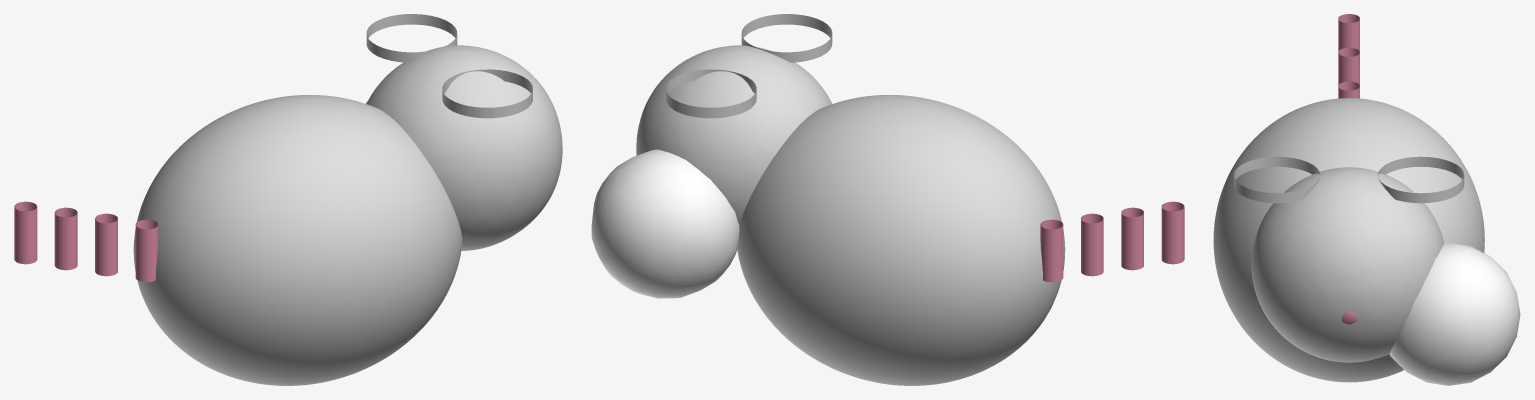
File: pet_cache_mouse_v3.glb
3 renders of one model, left to right at view 1: azimuth 30°, elevation 25°; view 2: azimuth 150°, elevation 25°; view 3: azimuth 270°, elevation 25°, orthographic. The views are drawn at different scales.
Visible parts, largest first — view 1: v3_mouse_body, v3_mouse_head, v3_mouse_ear_1, v3_mouse_ear_-1, v3_mouse_tail_3, v3_mouse_tail_2, v3_mouse_tail_1, v3_mouse_tail_0; view 2: v3_mouse_body, v3_mouse_head, v3_mouse_pouch, v3_mouse_ear_-1, v3_mouse_ear_1, v3_mouse_tail_3, v3_mouse_tail_1, v3_mouse_tail_2, v3_mouse_tail_0; view 3: v3_mouse_head, v3_mouse_body, v3_mouse_pouch, v3_mouse_ear_1, v3_mouse_ear_-1, v3_mouse_tail_2, v3_mouse_tail_3, v3_mouse_tail_1.
Part boxes in pixels (x1,y1,x2,y2): v3_mouse_body: (133,95,462,385); v3_mouse_head: (366,45,562,250); v3_mouse_ear_1: (366,14,457,62); v3_mouse_ear_-1: (442,69,532,118); v3_mouse_tail_3: (14,201,37,264); v3_mouse_tail_2: (54,207,77,270); v3_mouse_tail_1: (95,213,117,276); v3_mouse_tail_0: (135,219,158,282); v3_mouse_body: (737,95,1065,385); v3_mouse_head: (636,45,831,250); v3_mouse_pouch: (591,149,739,298); v3_mouse_ear_-1: (741,14,832,62); v3_mouse_ear_1: (666,69,756,118); v3_mouse_tail_3: (1161,201,1184,264); v3_mouse_tail_1: (1081,213,1103,276); v3_mouse_tail_2: (1121,207,1143,270); v3_mouse_tail_0: (1040,219,1063,282); v3_mouse_head: (1251,167,1444,362); v3_mouse_body: (1213,98,1484,382); v3_mouse_pouch: (1389,243,1520,385); v3_mouse_ear_1: (1378,156,1464,203); v3_mouse_ear_-1: (1234,156,1320,203); v3_mouse_tail_2: (1338,47,1359,84); v3_mouse_tail_3: (1338,14,1359,51); v3_mouse_tail_1: (1338,81,1359,98).
Bounding box in the file's own units: 1.06 × 0.5263 × 0.5546.
